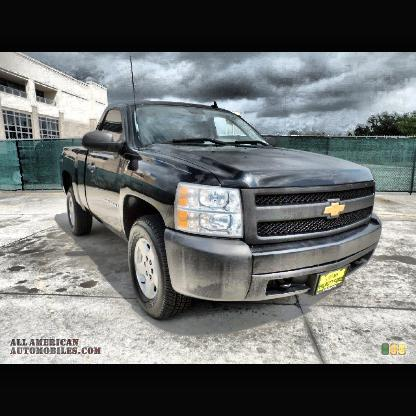Chevrolet Silverado 1500 Regular Cab 2012: (60, 101, 382, 322)
